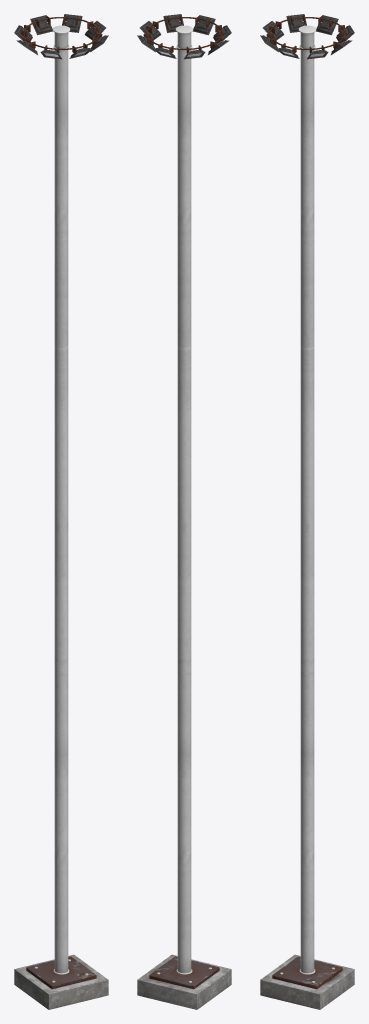
The picture shows the model from 3 angles, left to right: view 1: azimuth 30°, elevation 25°; view 2: azimuth 150°, elevation 25°; view 3: azimuth 330°, elevation 25°; orthographic projection.
Visible parts, largest first — view 1: lighting_mast; view 2: lighting_mast; view 3: lighting_mast.
Part boxes in pixels (box(x1,y1,x2,y2)): lighting_mast: box(14, 14, 108, 1009); lighting_mast: box(137, 14, 231, 1009); lighting_mast: box(260, 14, 354, 1009).
Bounding box in the file's own units: 1.35 × 15.32 × 1.35.
Materials: 1 (1 with a texture image).
